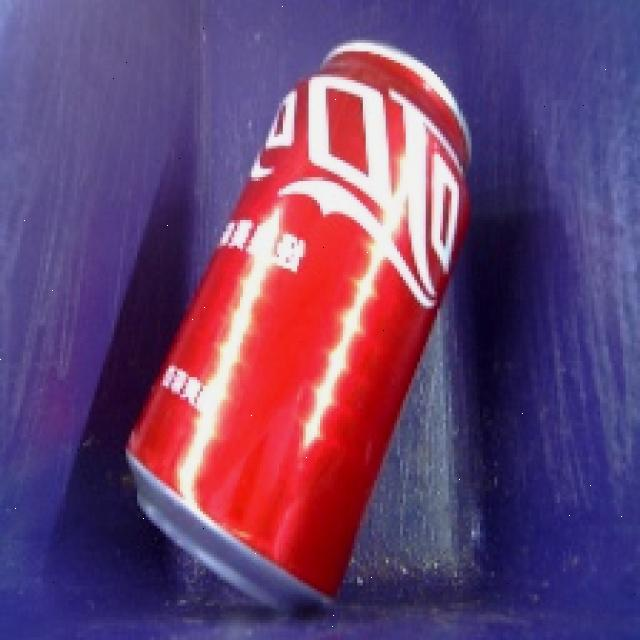metal: (109, 26, 512, 631)
